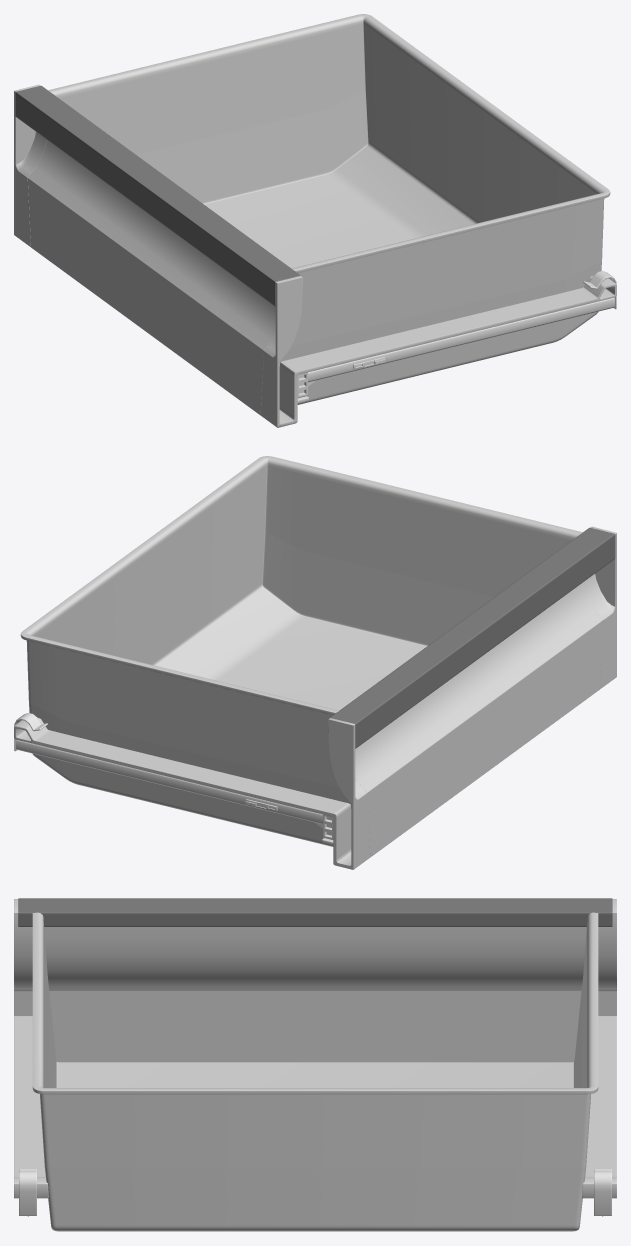
Rendered from SM_Fridge_Drawer_02.dae.
3 views of the same model, one above another, from view 1: azimuth 30°, elevation 25°; view 2: azimuth 150°, elevation 25°; view 3: azimuth 270°, elevation 25° (orthographic). The views are drawn at different scales.
Visible parts, largest first — view 1: SM_Fridge_Drawer_02; view 2: SM_Fridge_Drawer_02; view 3: SM_Fridge_Drawer_02.
Part boxes in pixels (x1,y1,x2,y2): SM_Fridge_Drawer_02: [14, 14, 616, 427]; SM_Fridge_Drawer_02: [14, 456, 616, 869]; SM_Fridge_Drawer_02: [14, 898, 616, 1231].
Size of the model in its own units: 0.3436 by 0.4543 by 0.138.
